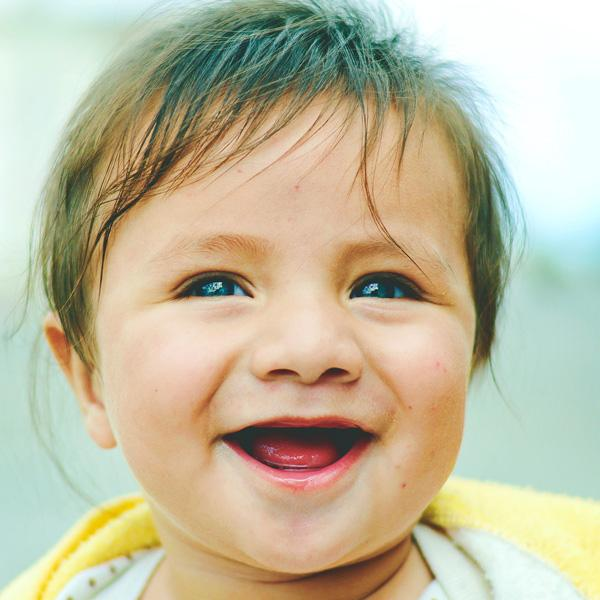Eyes: (159, 255, 263, 315), (342, 261, 438, 319)
